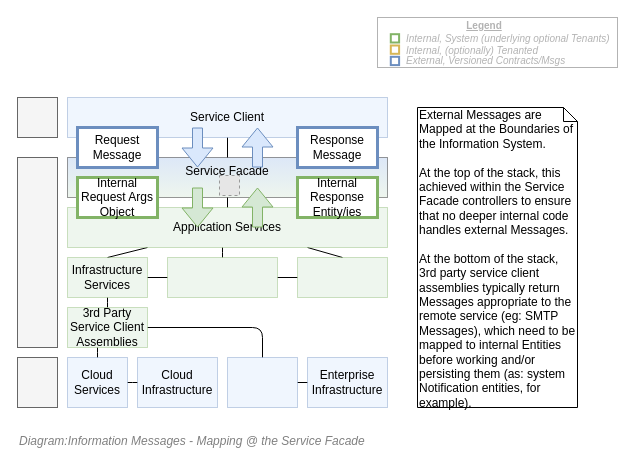
The diagram is 635 pixels wide and 469 high, and some of its shapes have lost their labels. Grey dashed boxes stand in for pictures. The centre of each missing label's shape, as x and y in pixels:
Client Tier: the point at 37,117
Domain Services: the point at 342,277
Enterprise Services: the point at 262,382
Platform Tiers: the point at 37,382
Service Tier: the point at 37,252
Shared Common Models, Messages & Entities: the point at 222,277
